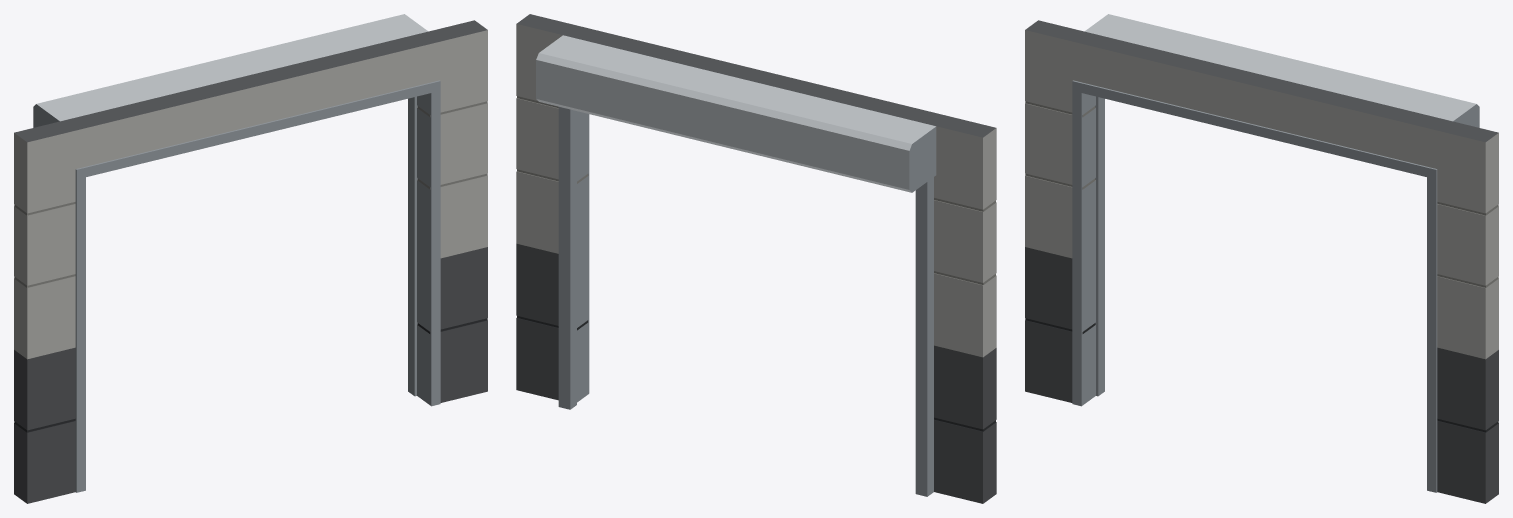
File: SM_Workshop_Wall_RollerDoor_Open_01.fbx
The picture shows the model from 3 angles, left to right: view 1: azimuth 30°, elevation 25°; view 2: azimuth 150°, elevation 25°; view 3: azimuth 330°, elevation 25°; orthographic projection.
Parts seen in each view (by area): view 1: SM_Workshop_Wall_RollerDoor_Open_01; view 2: SM_Workshop_Wall_RollerDoor_Open_01; view 3: SM_Workshop_Wall_RollerDoor_Open_01.
Boxes of the visible parts, bbox=[...] form: SM_Workshop_Wall_RollerDoor_Open_01: bbox=[14, 14, 487, 503]; SM_Workshop_Wall_RollerDoor_Open_01: bbox=[516, 14, 996, 503]; SM_Workshop_Wall_RollerDoor_Open_01: bbox=[1025, 14, 1498, 503].
Size of what is drawn, in the model's own units: 4 by 3 by 0.615.
Materials: 1 (1 with a texture image).
